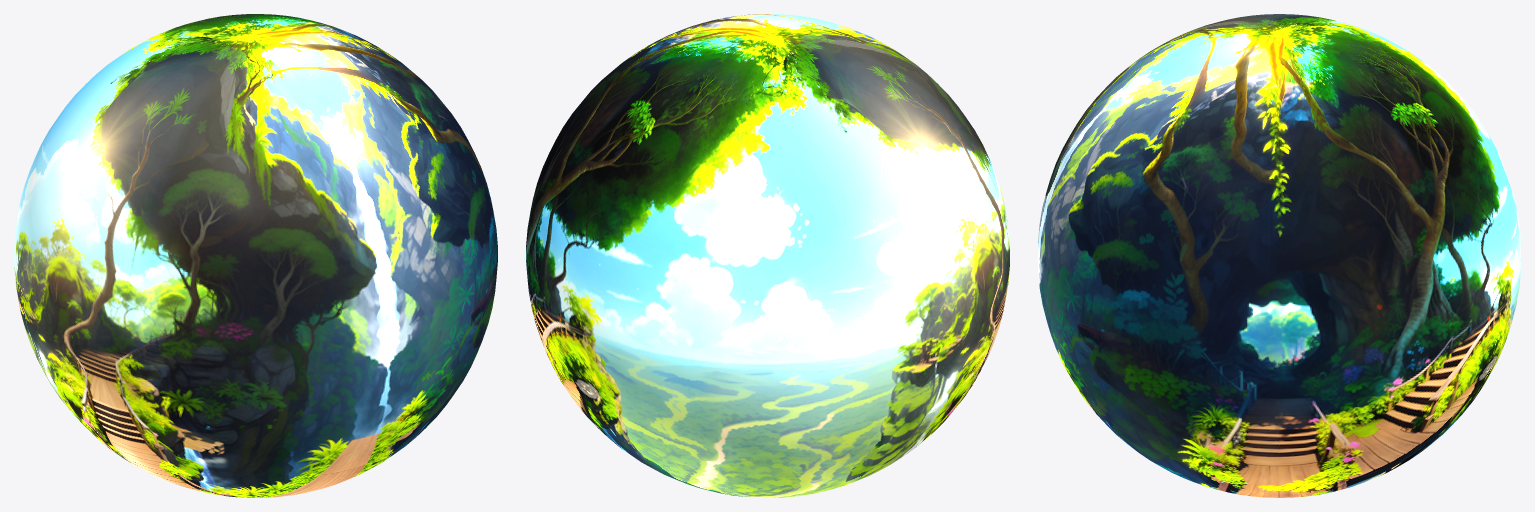
Rendered from jungle_01.glb.
The picture shows the model from 3 angles, left to right: view 1: azimuth 30°, elevation 25°; view 2: azimuth 150°, elevation 25°; view 3: azimuth 270°, elevation 25°; orthographic projection.
Visible parts, largest first — view 1: Fairytale_Garden; view 2: Fairytale_Garden; view 3: Fairytale_Garden.
Boxes of the visible parts, box(x1,y1,x2,y2) form: Fairytale_Garden: box(14, 14, 497, 497); Fairytale_Garden: box(526, 14, 1009, 497); Fairytale_Garden: box(1038, 14, 1520, 497).
Bounding box in the file's own units: 0.2478 × 0.248 × 0.2473.
Materials: 1 (1 with a texture image).
